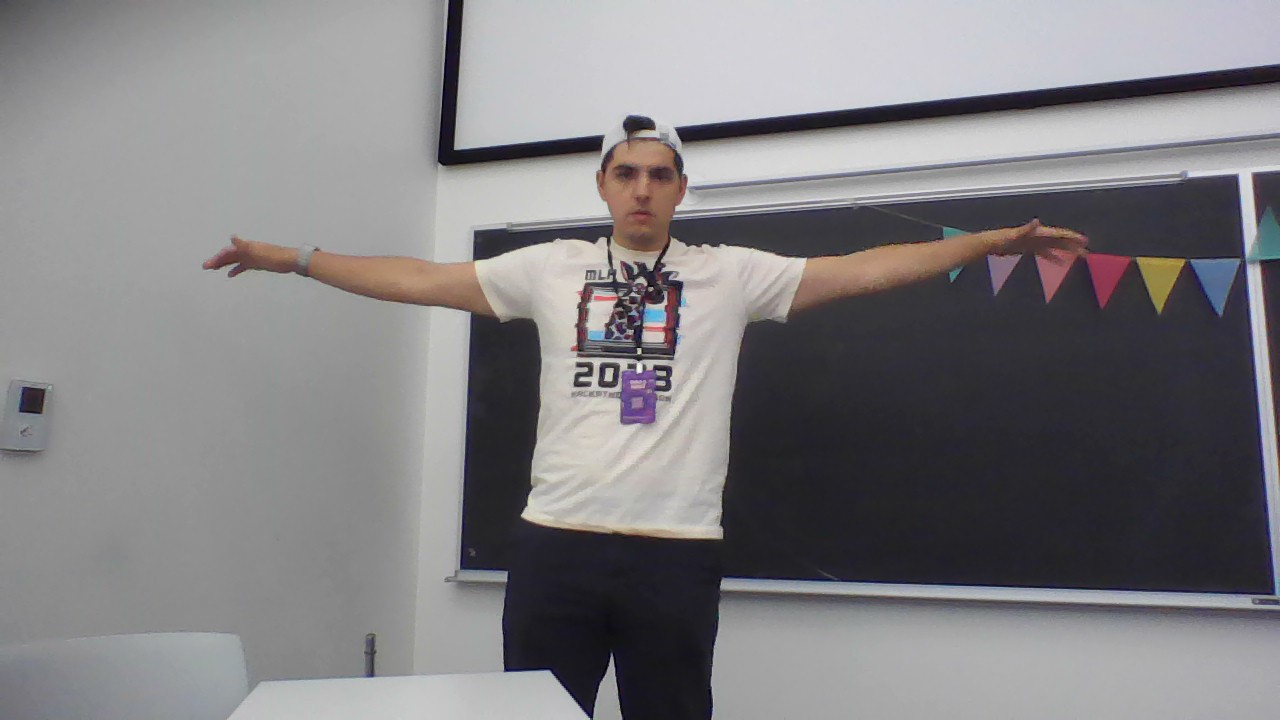height_frame: (495, 108, 767, 720)
hip_frame: (526, 501, 728, 550)
shoulder_frame: (553, 240, 758, 274)
waist_frame: (538, 401, 731, 432)
